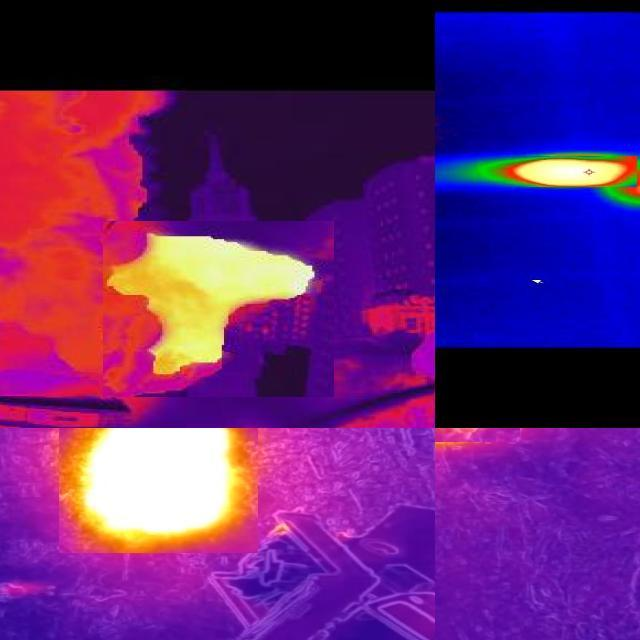fire: (107, 228, 316, 374), (83, 429, 239, 538), (508, 159, 635, 185)
